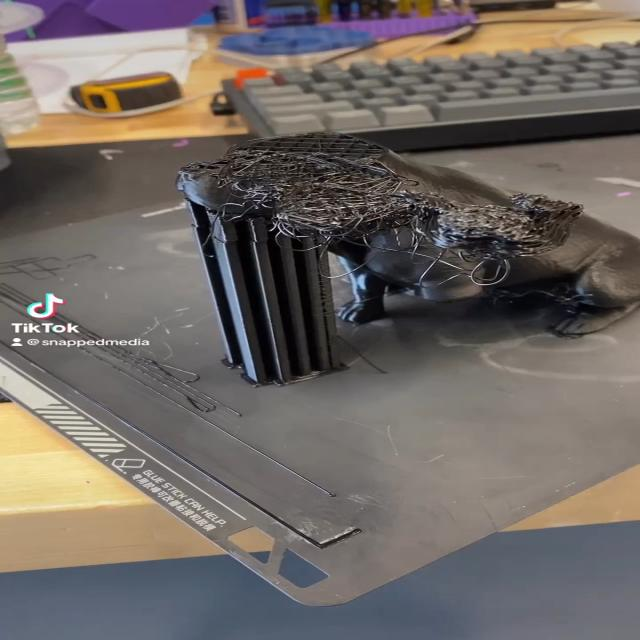spaghetti: (179, 142, 586, 292)
